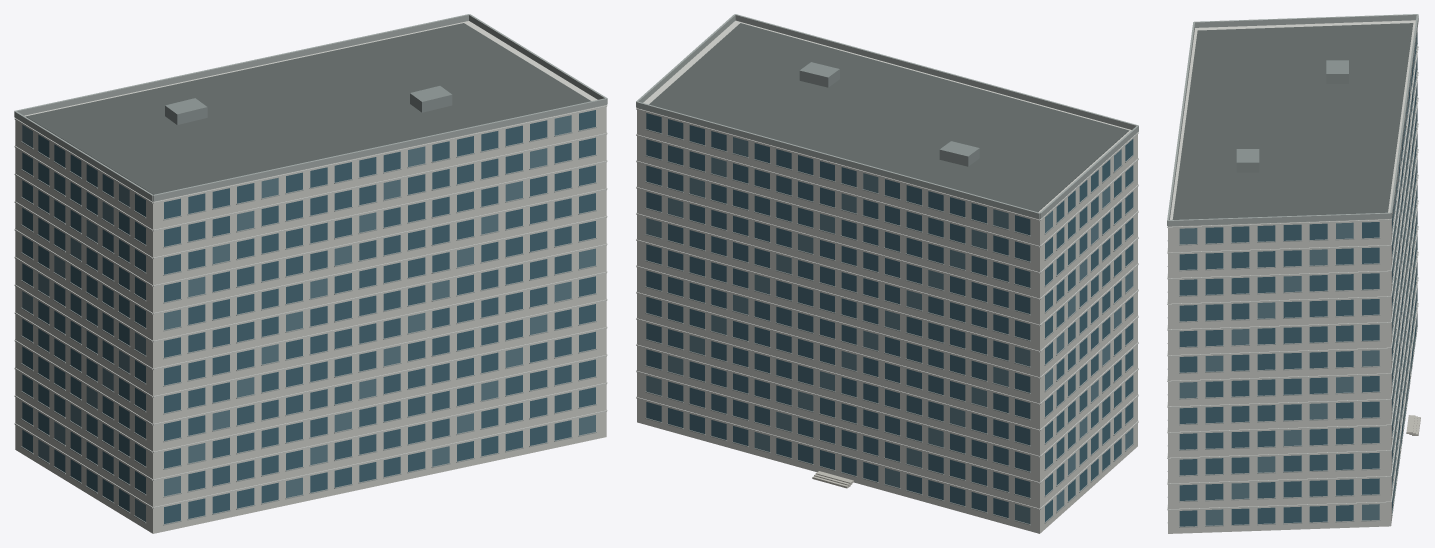
The model's file is 东侧办公园区-031.glb.
3 renders of one model, left to right at view 1: azimuth 30°, elevation 25°; view 2: azimuth 150°, elevation 25°; view 3: azimuth 270°, elevation 25°, orthographic. The views are drawn at different scales.
Parts seen in each view (by area): view 1: 东侧办公园区-031; view 2: 东侧办公园区-031; view 3: 东侧办公园区-031.
Boxes of the visible parts, x1=… form: 东侧办公园区-031: x1=14, y1=14, x2=607, y2=533; 东侧办公园区-031: x1=636, y1=14, x2=1138, y2=533; 东侧办公园区-031: x1=1167, y1=14, x2=1420, y2=533.
Size of the model in its own units: 60.56 by 43.42 by 31.37.
